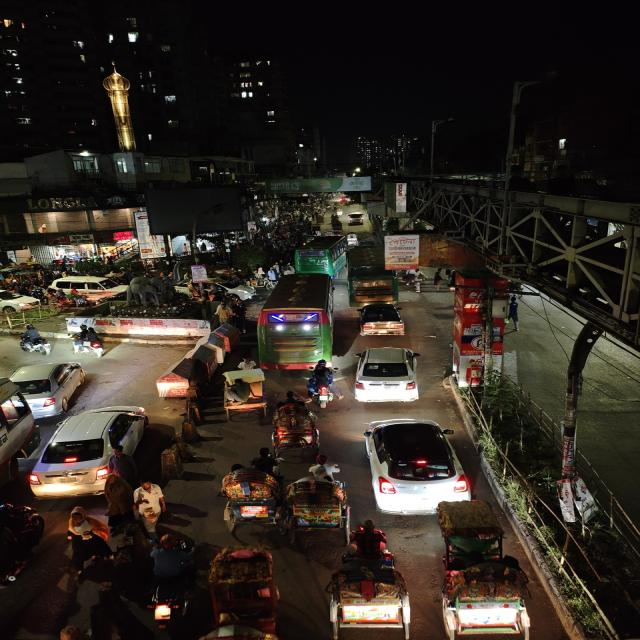bus: (252, 272, 342, 371), (294, 234, 352, 275), (347, 265, 400, 303)
car: (28, 402, 152, 498), (361, 416, 470, 516), (4, 359, 89, 415), (351, 344, 424, 406), (47, 273, 123, 301), (354, 300, 409, 338), (0, 286, 36, 315)
motorcycle: (140, 536, 195, 632), (0, 500, 45, 593), (304, 358, 339, 410), (67, 325, 109, 358), (16, 323, 55, 356)
pedestrian: (132, 479, 173, 533)
rickshaw: (433, 495, 535, 640), (200, 542, 290, 640), (322, 563, 418, 639), (216, 452, 283, 535), (284, 470, 350, 542), (212, 372, 274, 427), (269, 397, 322, 454)
